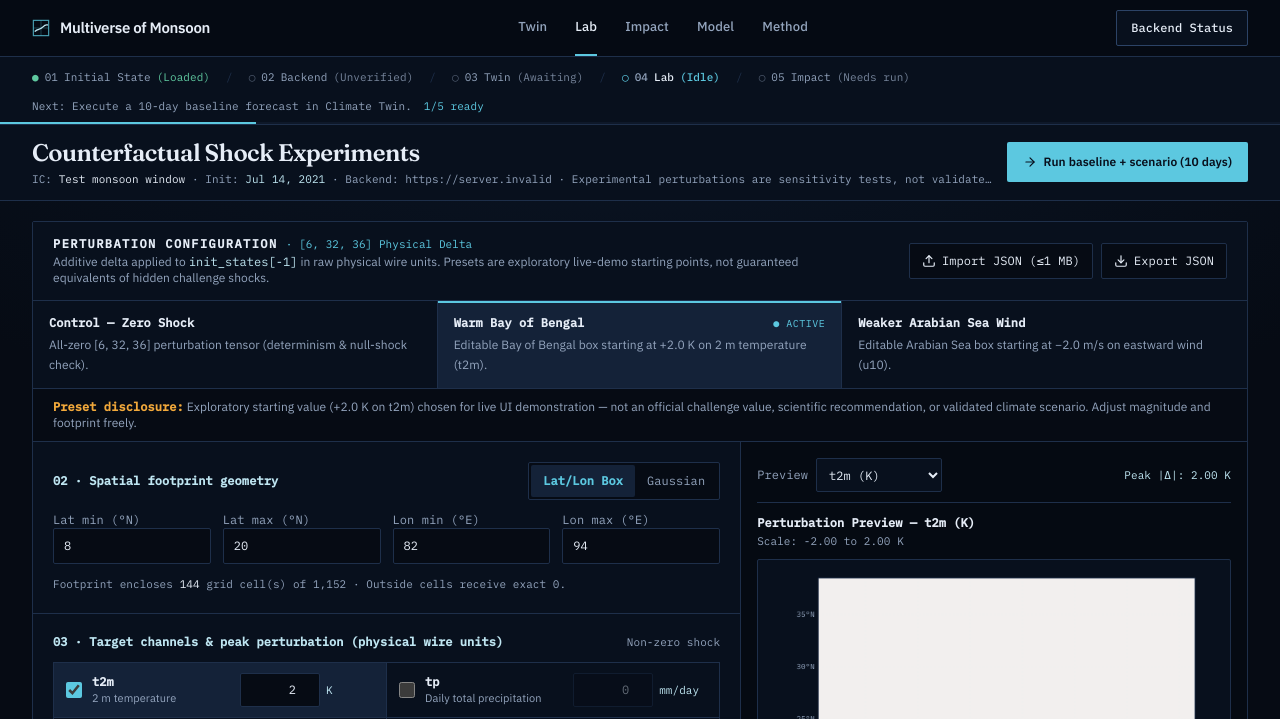
Test: Phase 2B Experiment Lab (/lab) & Impact Lens (/impact) UI Integration › runs sequential baseline + scenario on /lab, renders synchronized maps + descriptive diagnostics, and carries actual runs into /impact
Earlier steps of the test are not shown.
Later steps or results of the test are not shown.
Click the button "Gaussian".
click(676, 481)  # box [635,465,717,497]
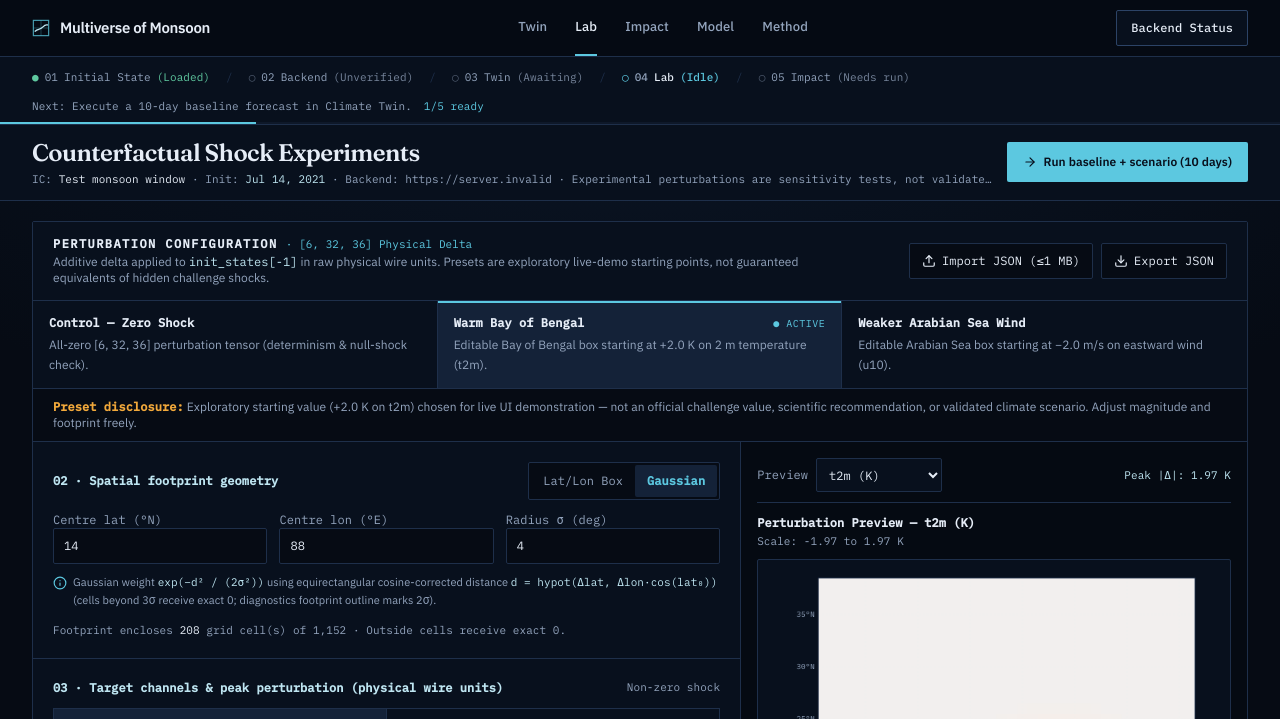
Check: the text "equirectangular cosine-corrected distance" is shown, box [267,575,508,589]
Click the button "Warm Bay of Bengal".
click(640, 344)  # box [438,301,842,388]
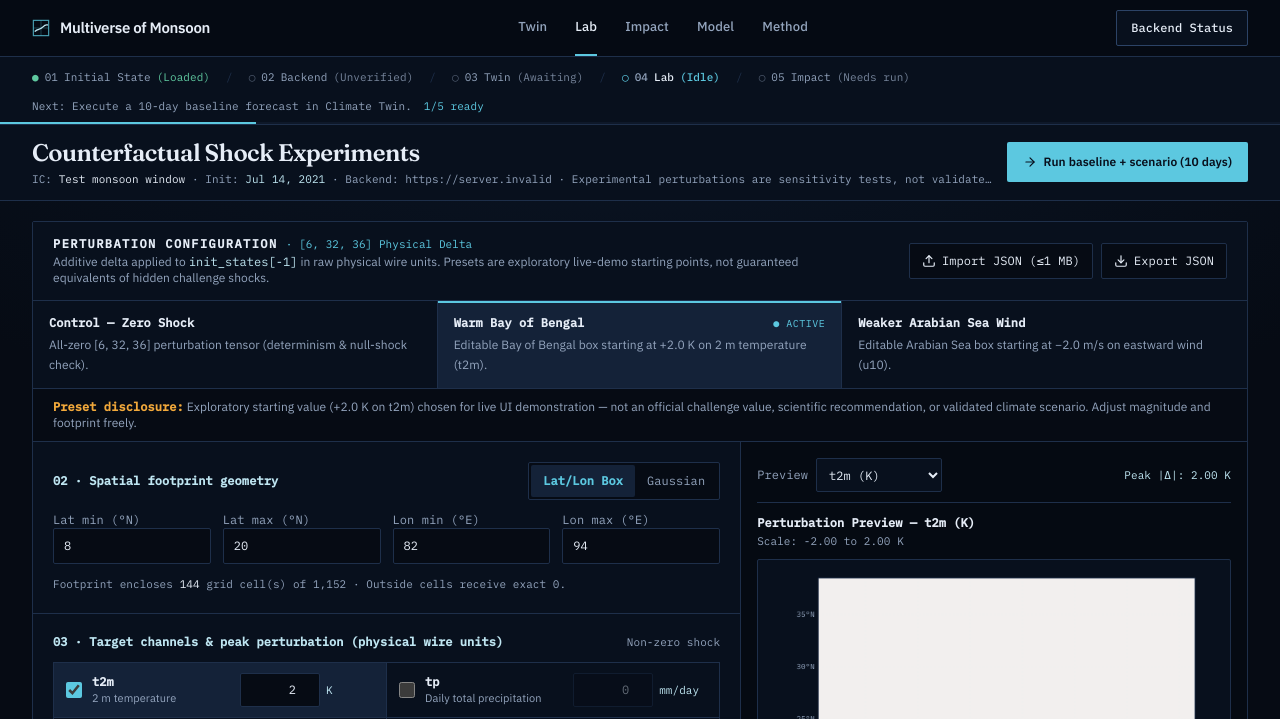
Click the button "Run baseline + scenario (10 days)".
click(1128, 162)  # box [1008,142,1248,182]
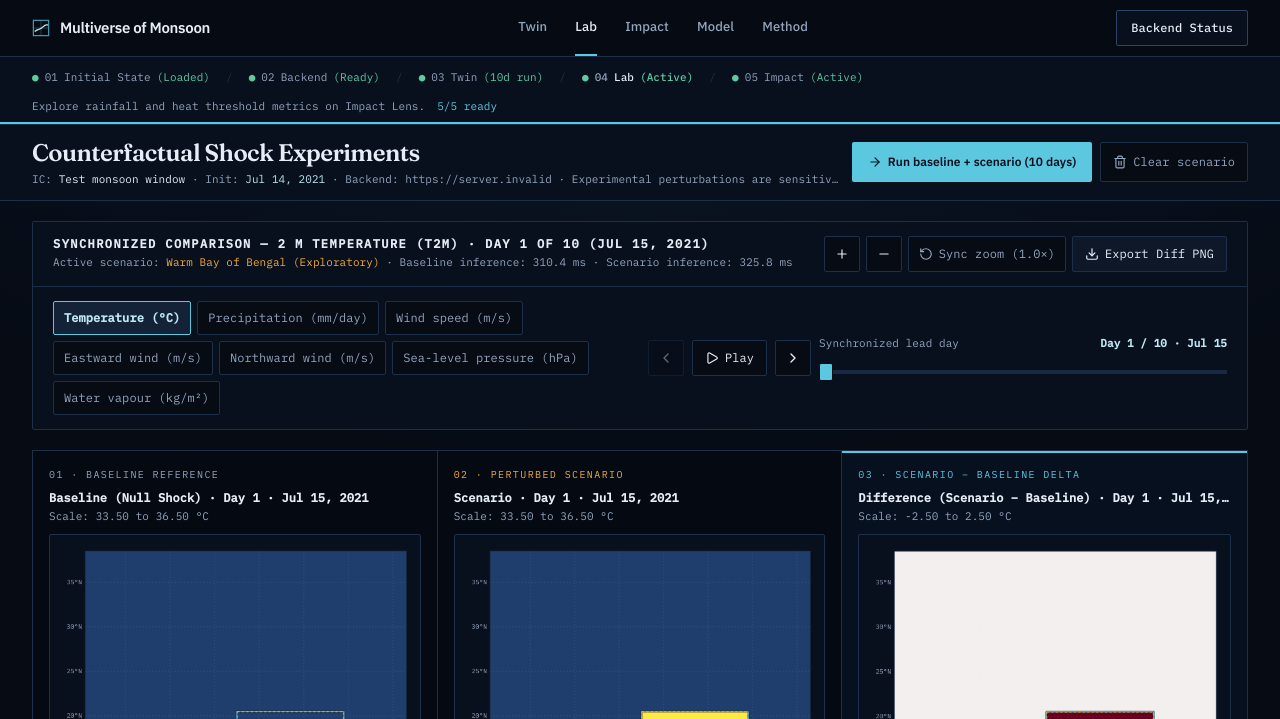
Click the link "Impact".
click(647, 27)  # box [625,18,669,35]
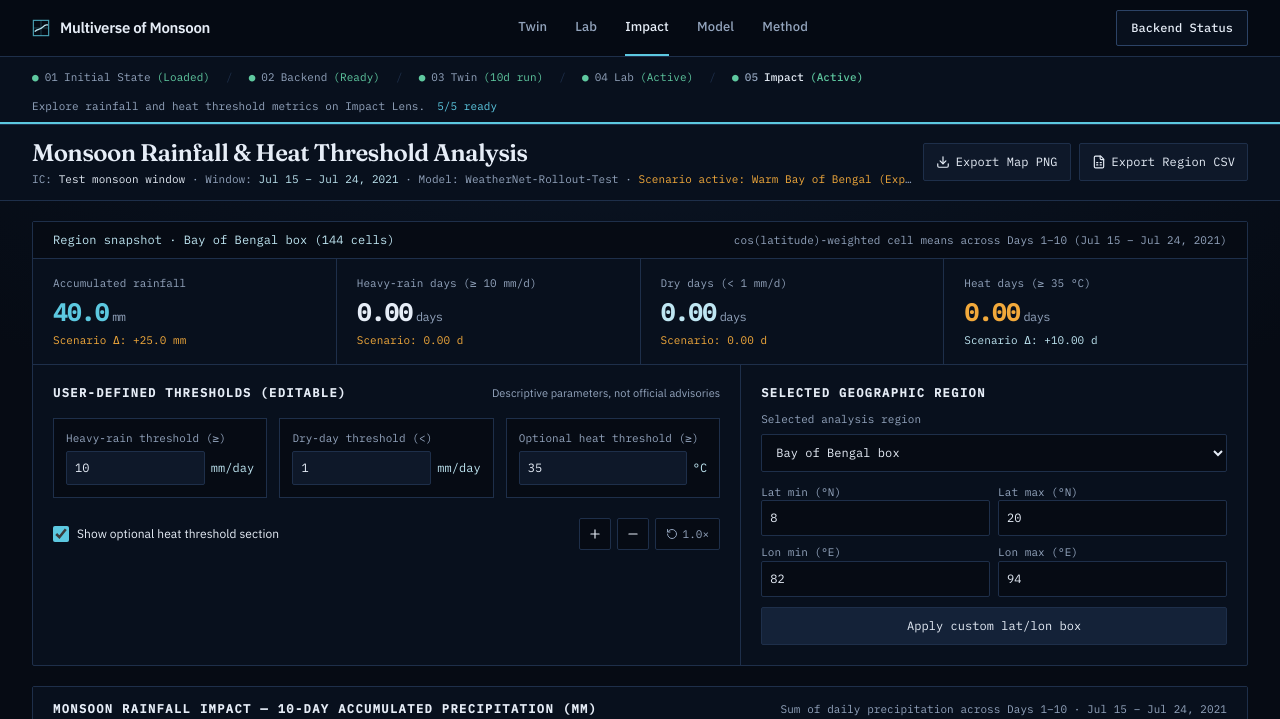
Check: the element with test id "impact-workspace" shows "Jul 15 – Jul 24, 2021", box [259,172,399,186]
Replace the text in the number field named "Heavy-rain threshold in mm/day" with "5" at coordinates (135, 468), box [66,451,205,485]
(page scrolled)
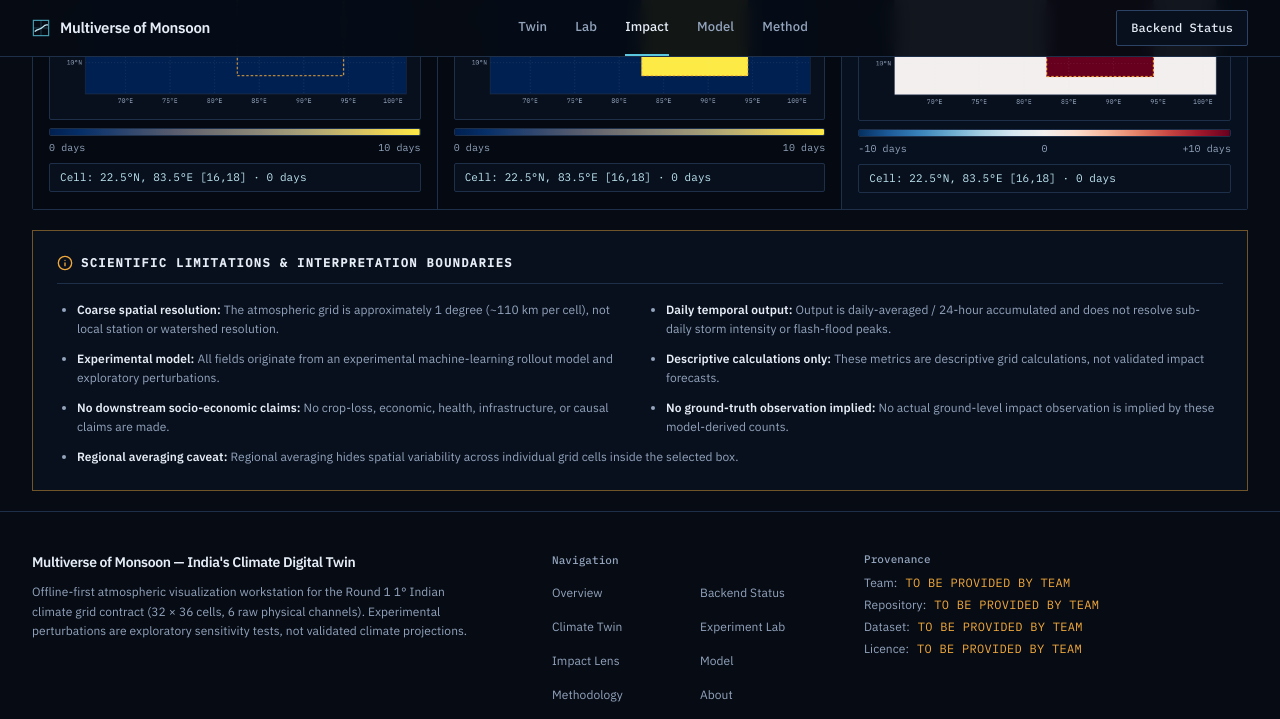
Check: the element with test id "impact-scientific-limitations" shows "Coarse spatial resolution", box [77,302,221,317]
Check: the element with test id "impact-scientific-limitations" shows "Daily temporal output", box [666,302,792,317]
Check: the element with test id "impact-scientific-limitations" shows "Experimental model", box [77,351,194,366]
